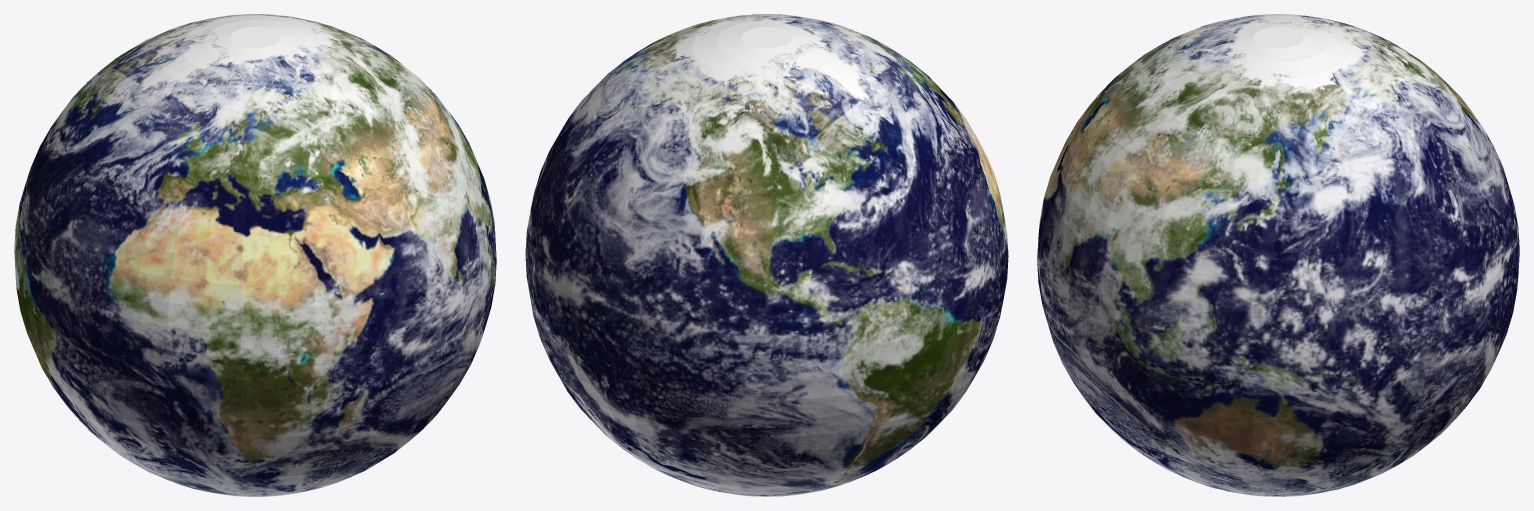
The model's file is Earth.glb.
3 views of the same model, side by side, from view 1: azimuth 30°, elevation 25°; view 2: azimuth 150°, elevation 25°; view 3: azimuth 270°, elevation 25° (orthographic).
Parts seen in each view (by area): view 1: Sphere_003; view 2: Sphere_003; view 3: Sphere_003.
Part boxes in pixels (x1,y1,x2,y2): Sphere_003: (14,14,496,496); Sphere_003: (525,14,1008,496); Sphere_003: (1037,14,1519,496).
Bounding box in the file's own units: 3.27 × 3.26 × 3.27.
Materials: 1 (1 with a texture image).
